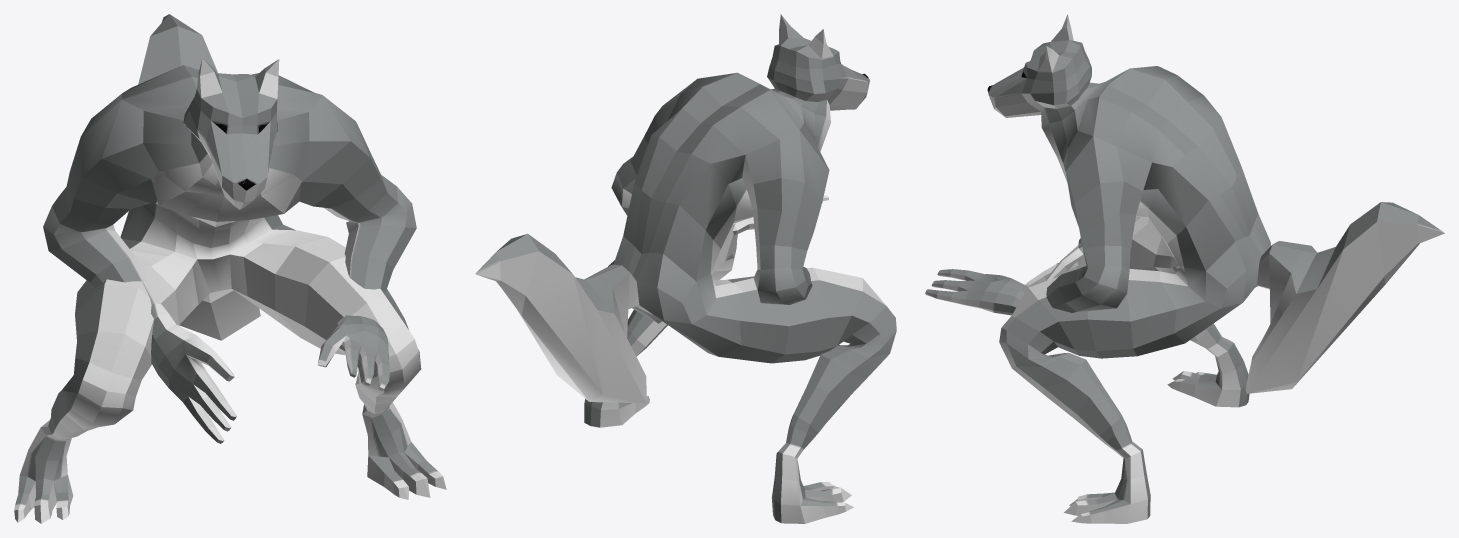
File: WolfAttack(74).obj
3 views of the same model, side by side, from view 1: azimuth 30°, elevation 25°; view 2: azimuth 150°, elevation 25°; view 3: azimuth 270°, elevation 25° (orthographic). The views are drawn at different scales.
Visible parts, largest first — view 1: Box001; view 2: Box001; view 3: Box001.
Part boxes in pixels (x1=…): Box001: x1=14, y1=14, x2=446, y2=523; Box001: x1=475, y1=14, x2=896, y2=523; Box001: x1=925, y1=14, x2=1444, y2=523.
Size of the model in its own units: 78.54 by 104 by 119.
